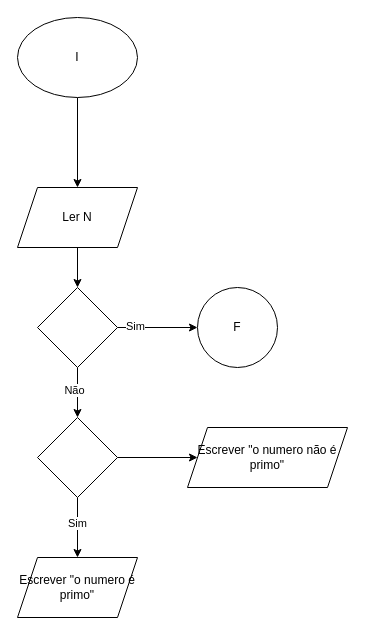
Image size: 365x635. Some labels were removed from this diagram. Each missing label, with the box of its shape:
N == 0: (36, 286, 118, 368)
N mod 2 = 0: (36, 416, 118, 498)
